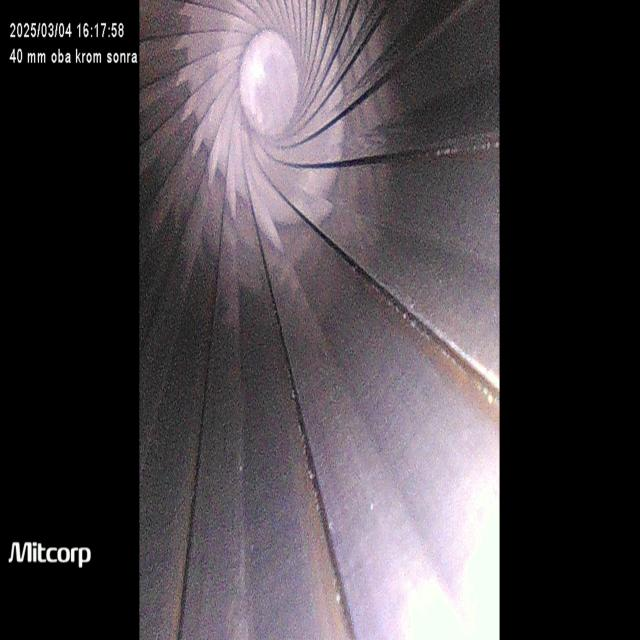hata_8.2: (228, 174, 337, 268)
